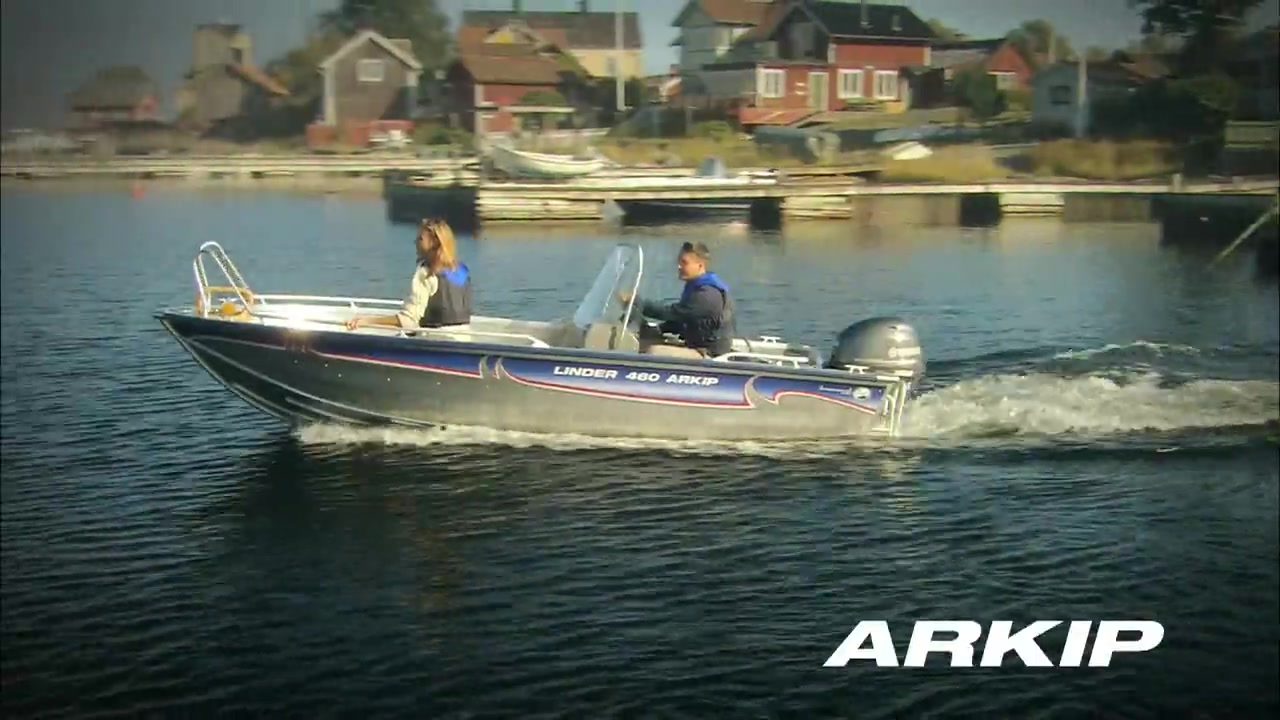boat: (150, 231, 924, 453)
